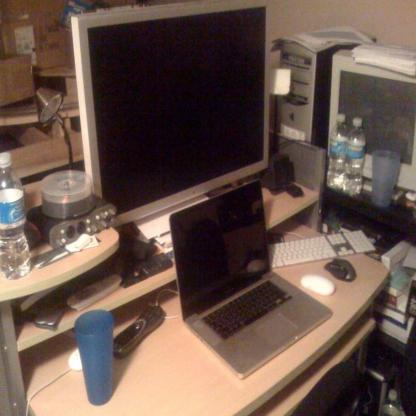board: (169, 177, 331, 380), (0, 151, 31, 279), (346, 117, 367, 197), (327, 112, 349, 188)
